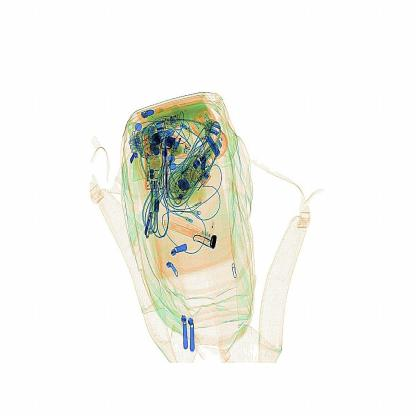knife: (158, 137, 178, 203)
